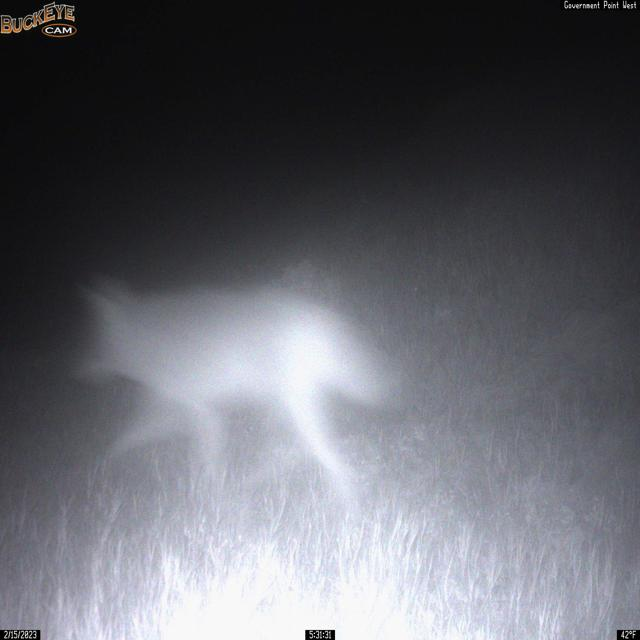coyote: (67, 270, 406, 523)
